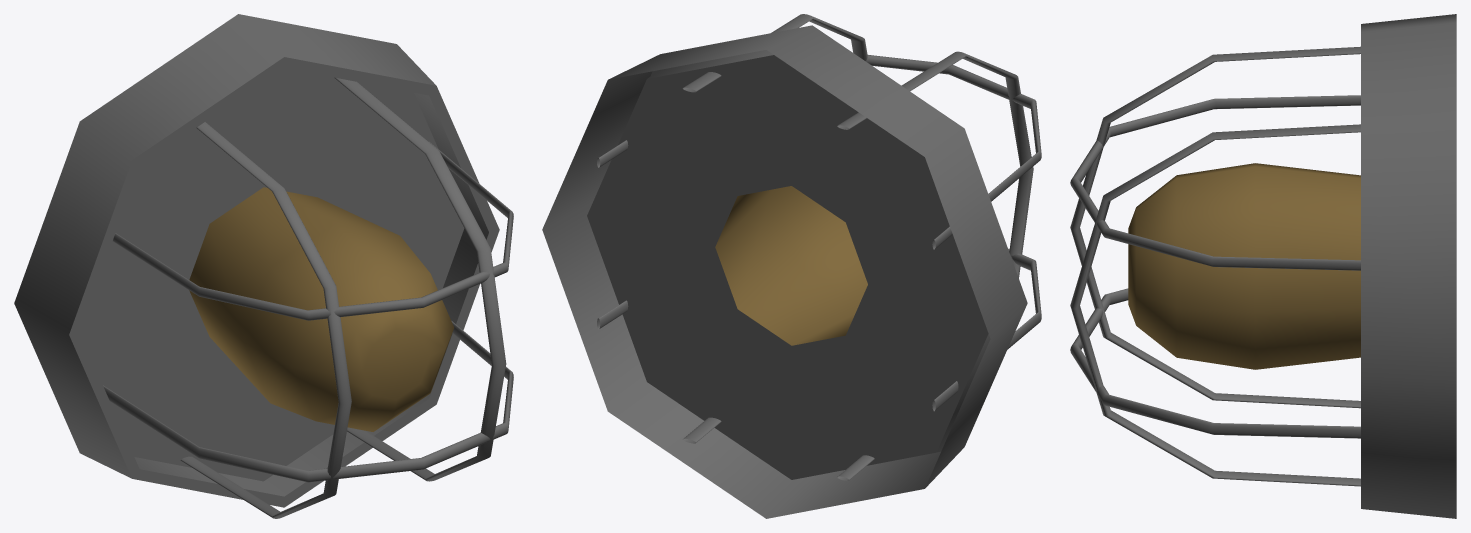
Rendered from HazardLight.fbx.
3 views of the same model, side by side, from view 1: azimuth 30°, elevation 25°; view 2: azimuth 150°, elevation 25°; view 3: azimuth 270°, elevation 25° (orthographic). The views are drawn at different scales.
Parts seen in each view (by area): view 1: HazardLight; view 2: HazardLight; view 3: HazardLight.
Part boxes in pixels (x1,y1,x2,y2): HazardLight: (14,14,513,518); HazardLight: (542,14,1041,518); HazardLight: (1070,14,1456,518).
Bounding box in the file's own units: 47.08 × 47.08 × 33.86.
